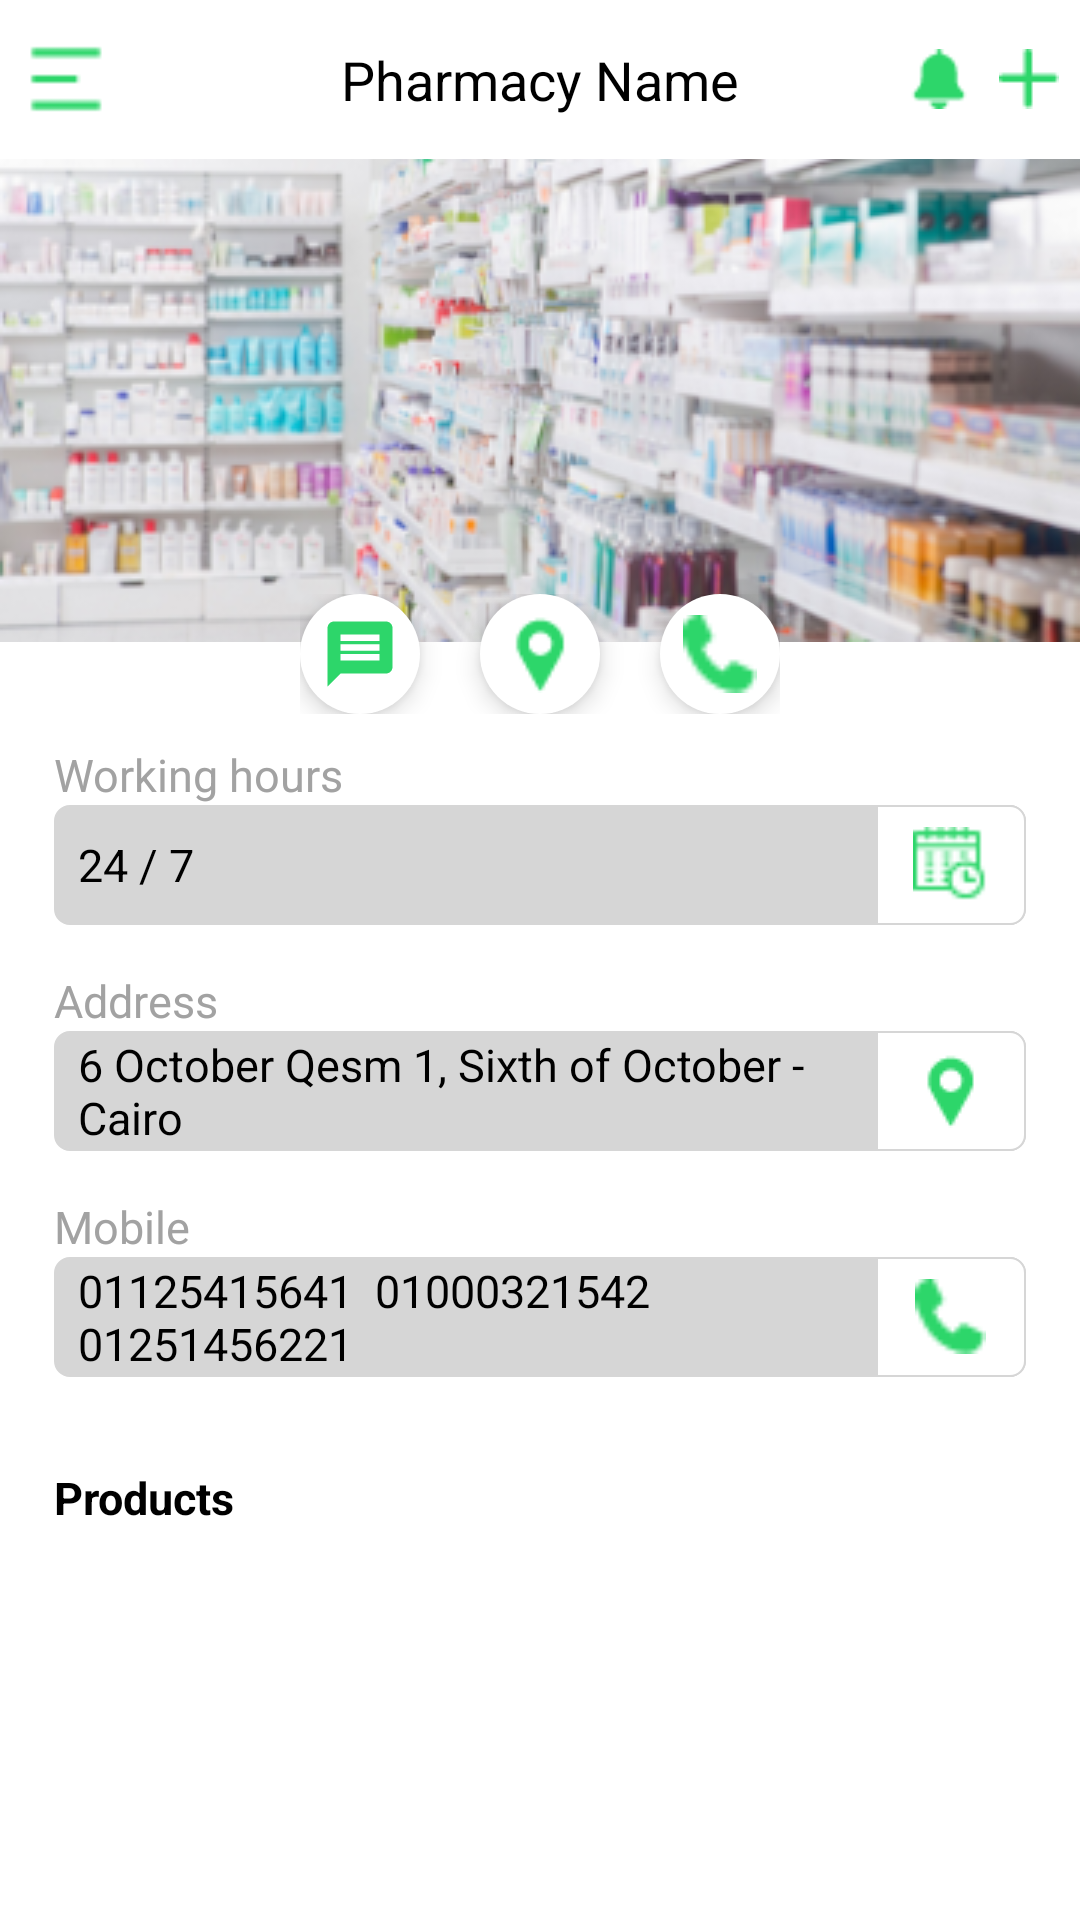

Screen size 1080×1920. Icon name, then its center in pixels as (x=x, y=y):
add: (x=1029, y=79)
calendar: (x=949, y=863)
menu: (x=66, y=79)
message: (x=360, y=654)
notification: (x=939, y=79)
phone: (x=720, y=654), (x=950, y=1316)
pin: (x=540, y=654), (x=950, y=1091)
